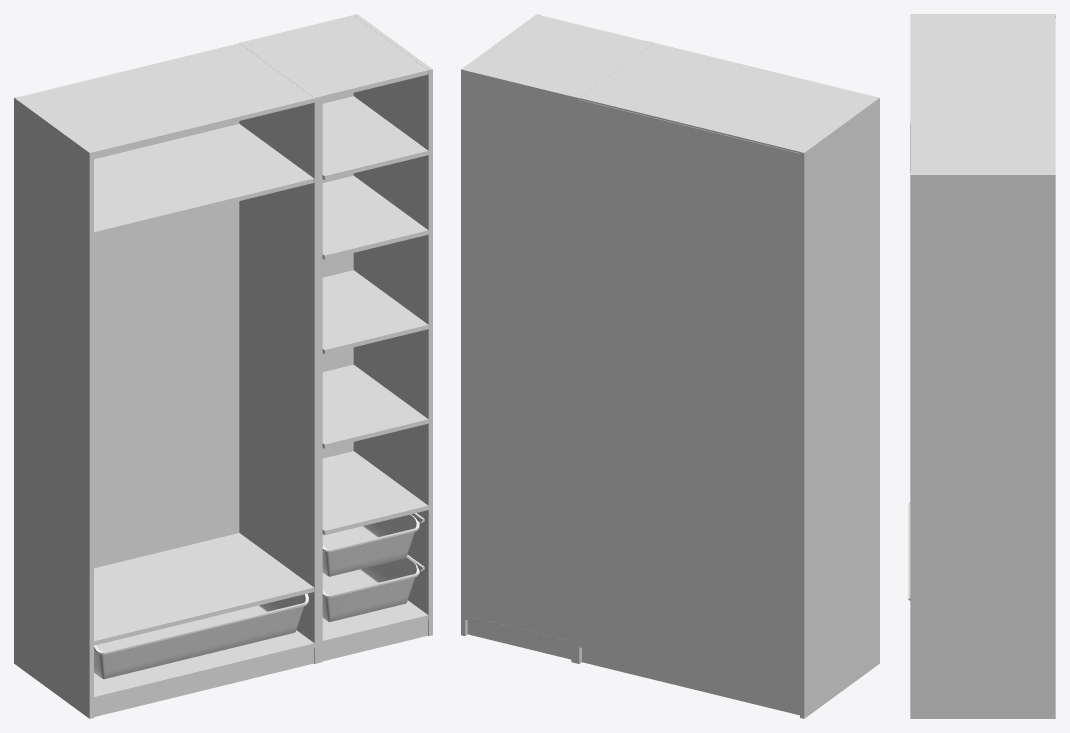
File: pax_kombinacja_szafy_69385670.glb
3 renders of one model, left to right at view 1: azimuth 30°, elevation 25°; view 2: azimuth 150°, elevation 25°; view 3: azimuth 270°, elevation 25°, orthographic. The views are drawn at different scales.
Visible parts, largest first — view 1: pax_kombinacja_szafy_69385670; view 2: pax_kombinacja_szafy_69385670; view 3: pax_kombinacja_szafy_69385670.
Part boxes in pixels (left/top/right/bottom): pax_kombinacja_szafy_69385670: left=14, top=14, right=432, bottom=718; pax_kombinacja_szafy_69385670: left=461, top=14, right=879, bottom=718; pax_kombinacja_szafy_69385670: left=908, top=14, right=1055, bottom=718.
Bounding box in the file's own units: 1.5 × 2.36 × 0.5801.
Materials: 1 (1 with a texture image).
